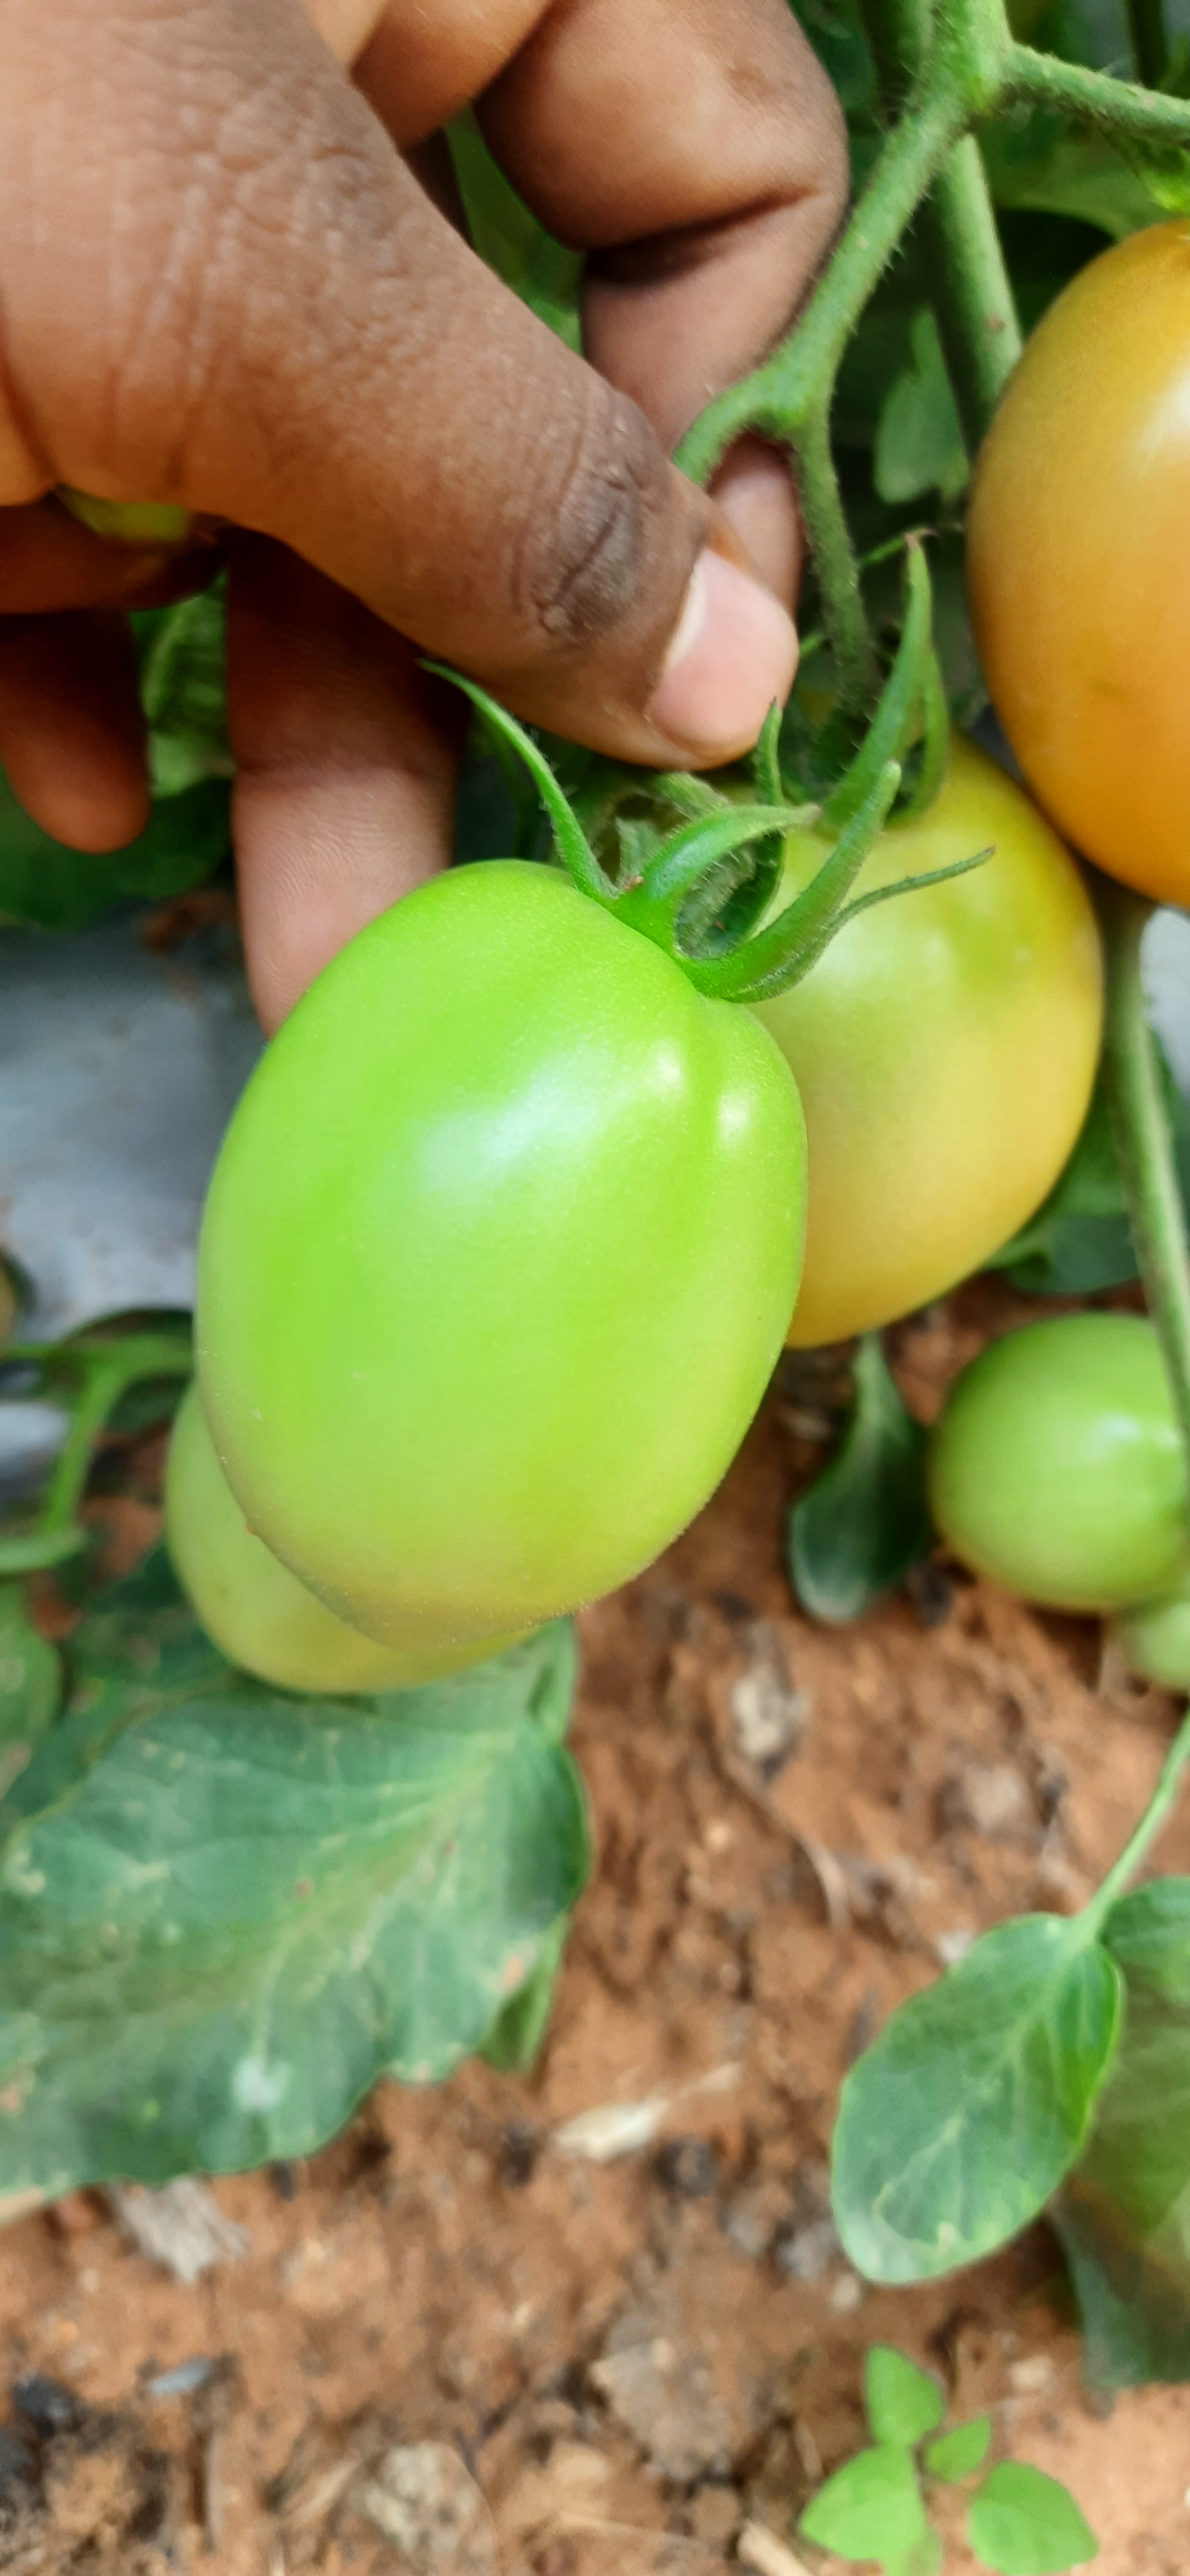raw_tomato: (146, 777, 932, 1710)
